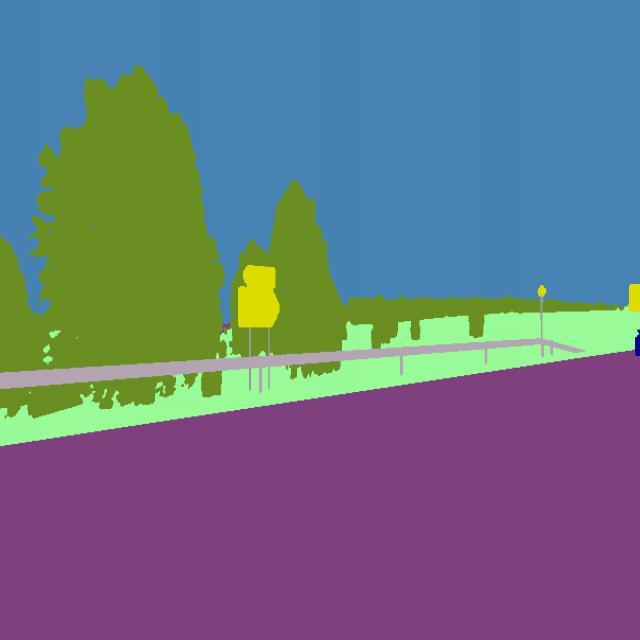safe: (635, 316, 640, 368)
